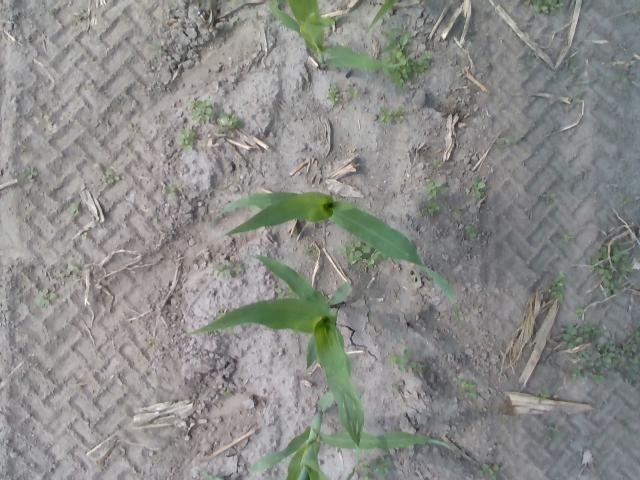Maize: (185, 254, 364, 446), (216, 192, 458, 304), (201, 392, 455, 480), (267, 1, 416, 69)
Weeds: (588, 245, 634, 278), (617, 328, 640, 384), (380, 28, 410, 60), (526, 0, 566, 14), (596, 338, 616, 365), (391, 348, 413, 372), (424, 180, 450, 198), (192, 99, 211, 122), (564, 325, 582, 349), (470, 177, 490, 197), (390, 69, 410, 89), (341, 242, 362, 261), (476, 462, 498, 480), (552, 272, 566, 300), (377, 108, 404, 122), (37, 288, 58, 306), (357, 457, 374, 479), (372, 455, 391, 474), (178, 131, 196, 148), (602, 278, 620, 295), (502, 134, 524, 146), (456, 378, 476, 390), (219, 114, 237, 127), (362, 246, 374, 265), (412, 60, 428, 74), (583, 325, 600, 338), (228, 260, 249, 270), (104, 171, 120, 184), (216, 264, 230, 277), (328, 85, 339, 101), (466, 222, 478, 236), (584, 362, 596, 376), (572, 365, 584, 378), (544, 424, 555, 438), (615, 72, 630, 82), (414, 362, 426, 374), (520, 60, 532, 72), (426, 202, 439, 213), (451, 204, 462, 216), (578, 350, 590, 361), (542, 192, 555, 202), (562, 232, 573, 243), (346, 87, 358, 97), (27, 168, 38, 178), (74, 10, 84, 21), (593, 375, 606, 383), (431, 158, 442, 167), (160, 186, 174, 193), (464, 392, 477, 399), (70, 203, 79, 213), (540, 389, 550, 398), (570, 64, 580, 73), (574, 92, 582, 103), (151, 42, 161, 50), (620, 194, 630, 202), (622, 424, 630, 434), (67, 264, 80, 270), (55, 270, 64, 278), (568, 57, 578, 64), (274, 286, 282, 293), (424, 52, 431, 60), (146, 341, 154, 348), (578, 309, 584, 318), (81, 232, 88, 239), (152, 217, 158, 223), (632, 9, 638, 14)
